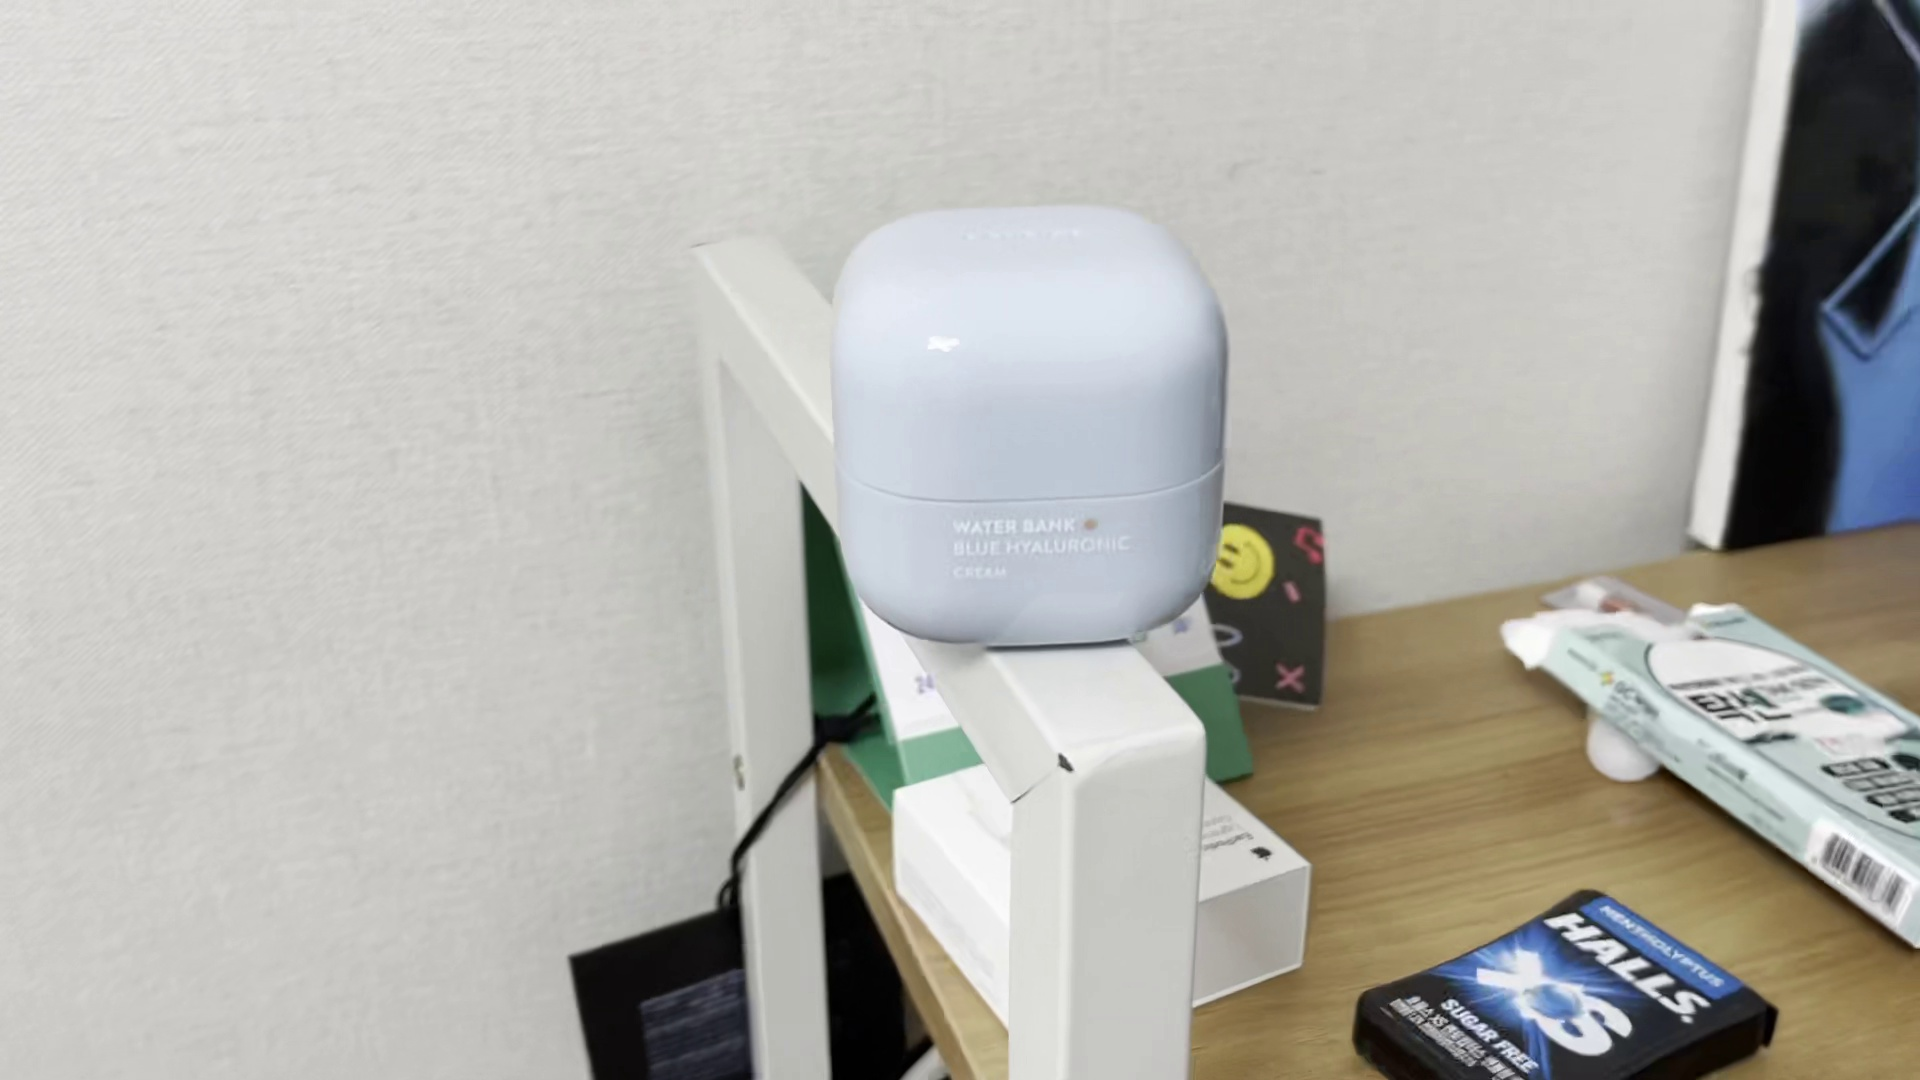cream: (825, 206, 1228, 644)
